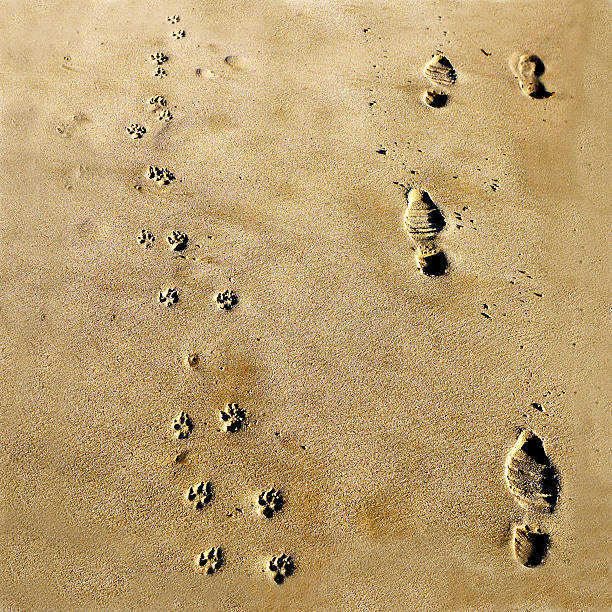animal_footprint: (505, 430, 558, 511), (404, 188, 447, 275), (404, 188, 444, 243), (512, 524, 549, 567), (516, 54, 552, 98), (424, 53, 456, 85), (415, 244, 447, 275), (267, 553, 294, 583), (257, 487, 283, 517), (196, 547, 224, 574), (219, 403, 245, 432), (185, 482, 212, 509), (172, 411, 192, 438), (147, 166, 175, 184), (423, 88, 447, 107), (216, 289, 237, 310), (167, 230, 187, 250), (158, 287, 178, 307), (137, 229, 155, 247), (125, 123, 145, 138), (184, 352, 200, 369), (148, 95, 167, 109), (150, 52, 168, 64), (157, 109, 172, 121), (153, 65, 166, 77), (172, 29, 185, 38), (167, 15, 179, 23)
